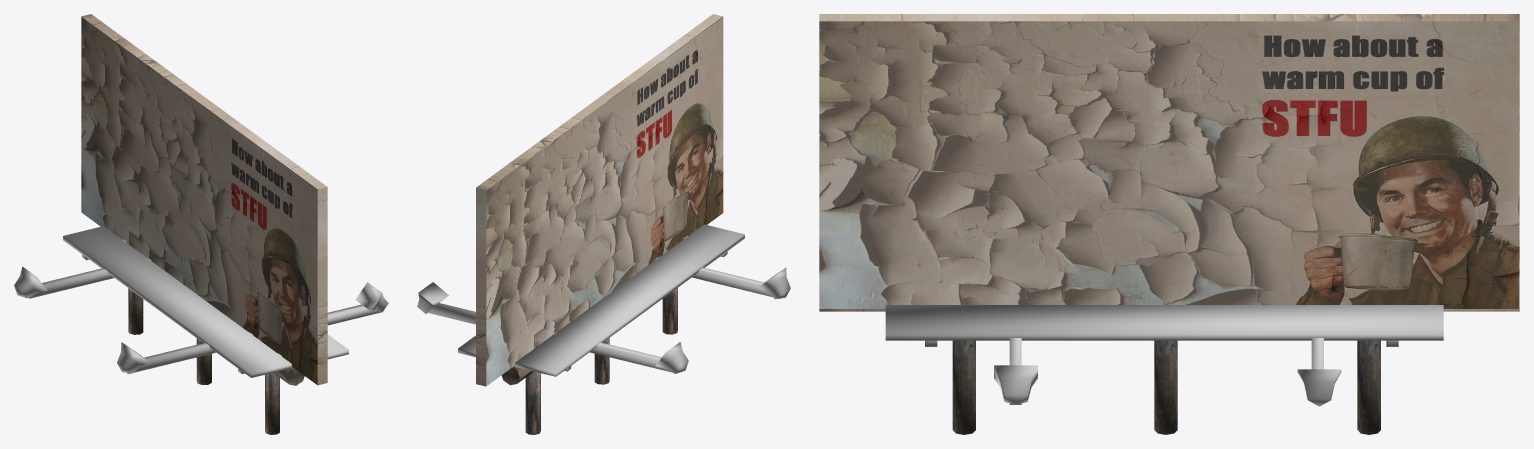
Rendered from billboard4.fbx.
3 views of the same model, side by side, from view 1: azimuth 30°, elevation 25°; view 2: azimuth 150°, elevation 25°; view 3: azimuth 270°, elevation 25° (orthographic). The views are drawn at different scales.
Parts seen in each view (by area): view 1: board0, boards0, lightframes0, poststumps0; view 2: board0, boards0, lightframes0, poststumps0; view 3: board0, boards0, poststumps0, lightframes0.
Part boxes in pixels (x1,y1,x2,y2): board0: [81, 14, 327, 385]; boards0: [63, 226, 348, 377]; lightframes0: [14, 239, 388, 374]; poststumps0: [128, 288, 279, 434]; board0: [476, 14, 723, 386]; boards0: [458, 224, 744, 376]; lightframes0: [417, 235, 790, 373]; poststumps0: [525, 288, 677, 434]; board0: [819, 14, 1519, 311]; boards0: [885, 305, 1443, 340]; poststumps0: [952, 340, 1380, 434]; lightframes0: [925, 338, 1398, 406].
Bounding box in the file's own units: 10.32 × 10.39 × 15.95.
